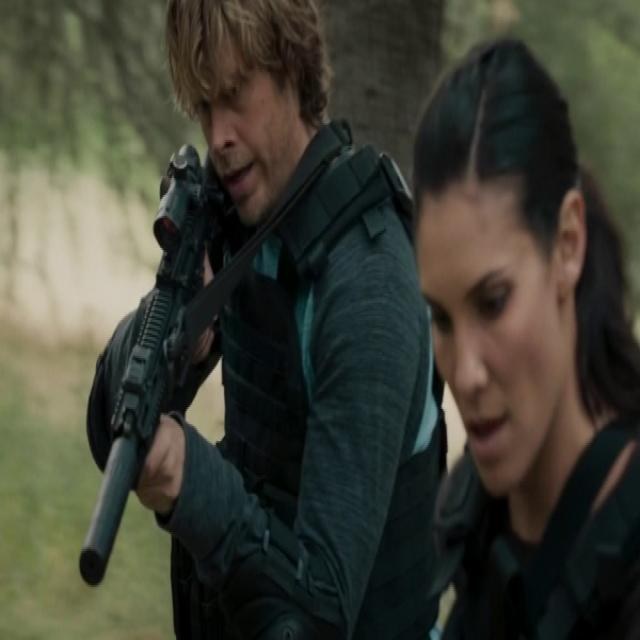rifle: (76, 141, 212, 600)
